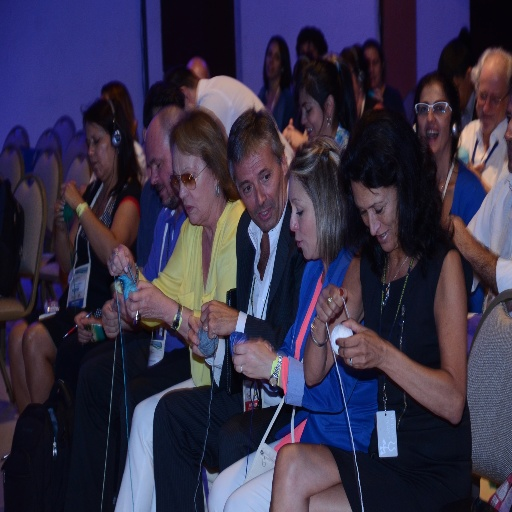hand: (340, 325, 389, 380), (125, 280, 168, 321), (199, 298, 239, 341), (229, 342, 275, 378), (313, 282, 348, 326), (186, 313, 209, 359), (105, 243, 134, 277), (73, 307, 98, 345), (101, 298, 123, 340), (111, 289, 134, 326), (58, 178, 85, 208), (440, 214, 462, 237), (285, 124, 305, 149), (54, 195, 66, 231), (464, 159, 481, 179), (281, 117, 295, 138)
